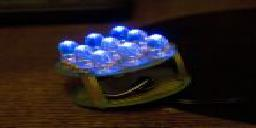LED: (55, 25, 173, 71)
